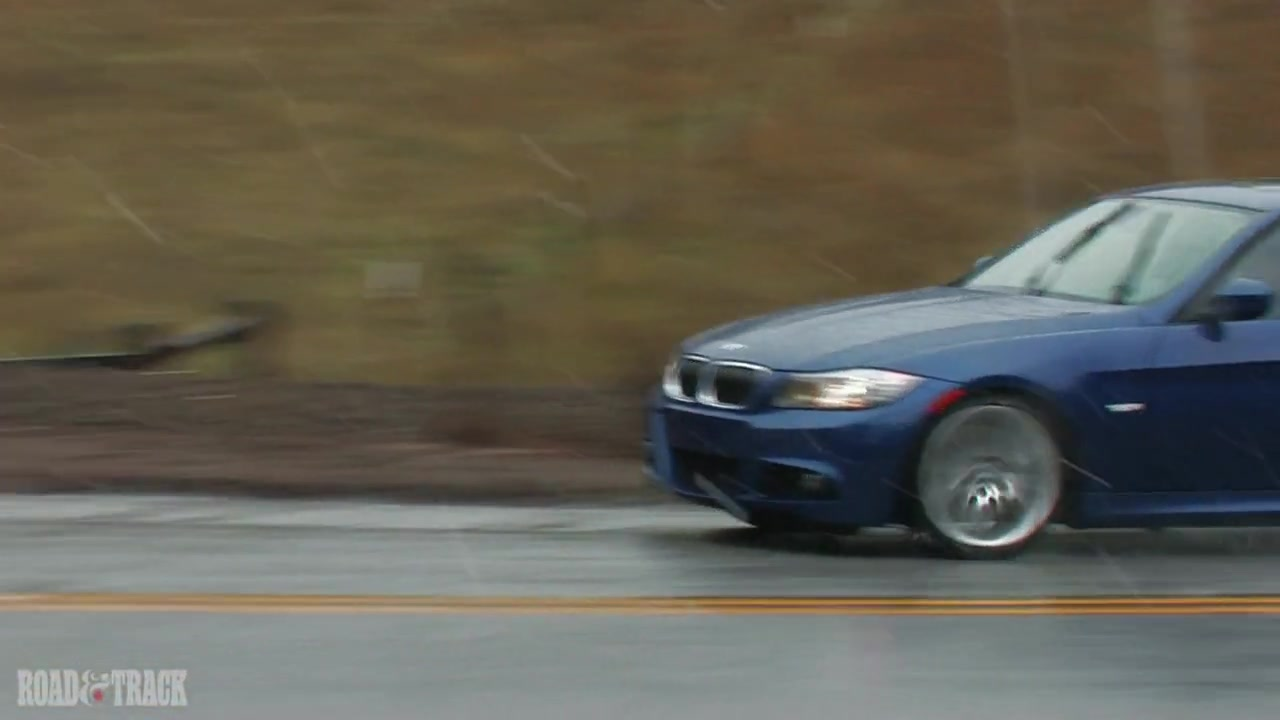car: (640, 180, 1280, 564)
